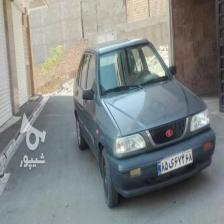plate: (156, 146, 192, 175)
